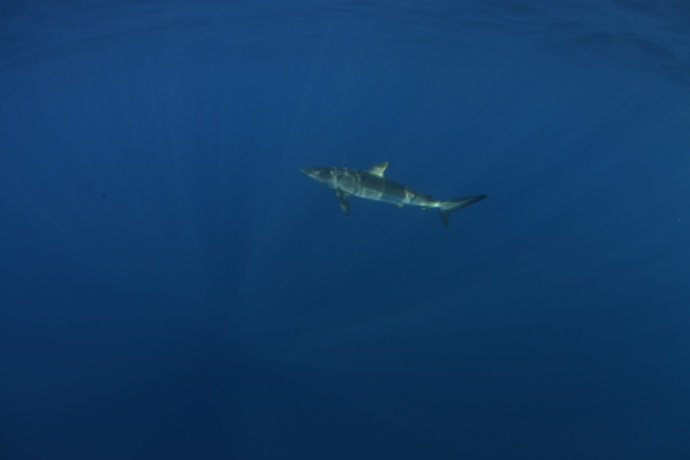Sedoso: (293, 157, 491, 232)
